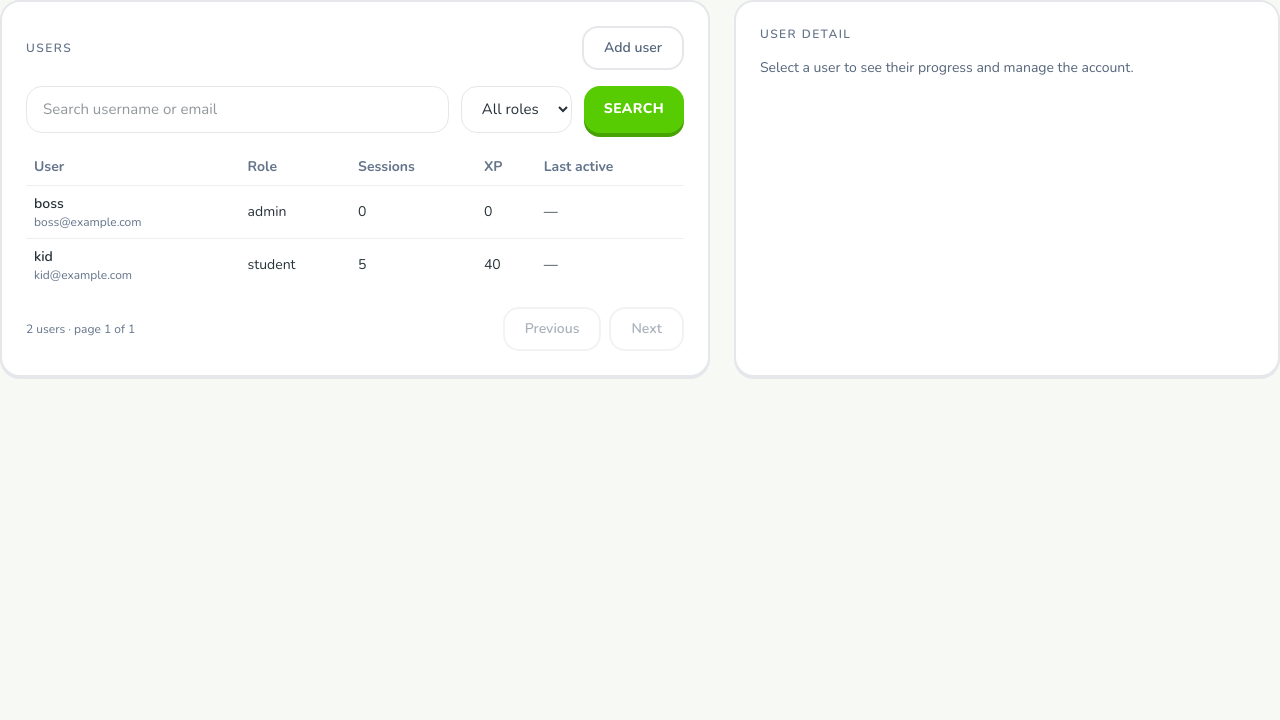
Test: UsersTab › shows the server's refusal inside the dialog instead of closing it
Click the button "kid" at coordinates (43, 257), box [34,247,53,267]
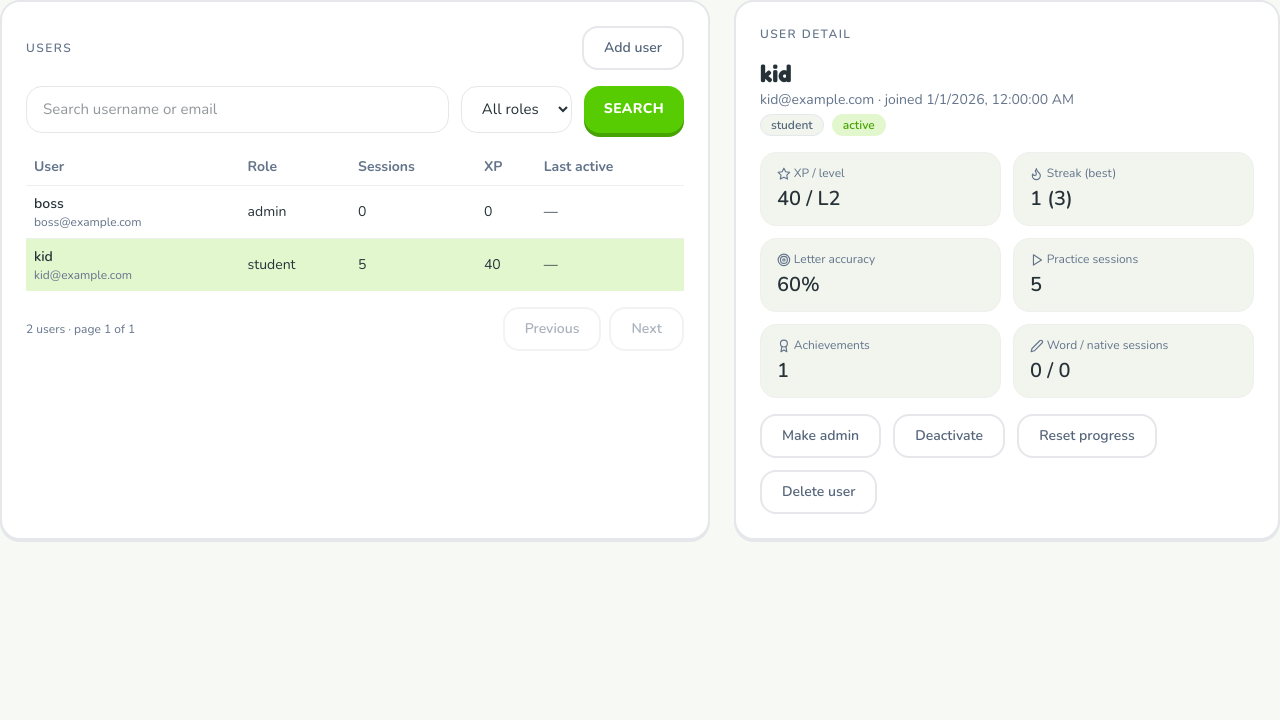
Click the button "Make admin" at coordinates (821, 436), box [760,414,881,458]
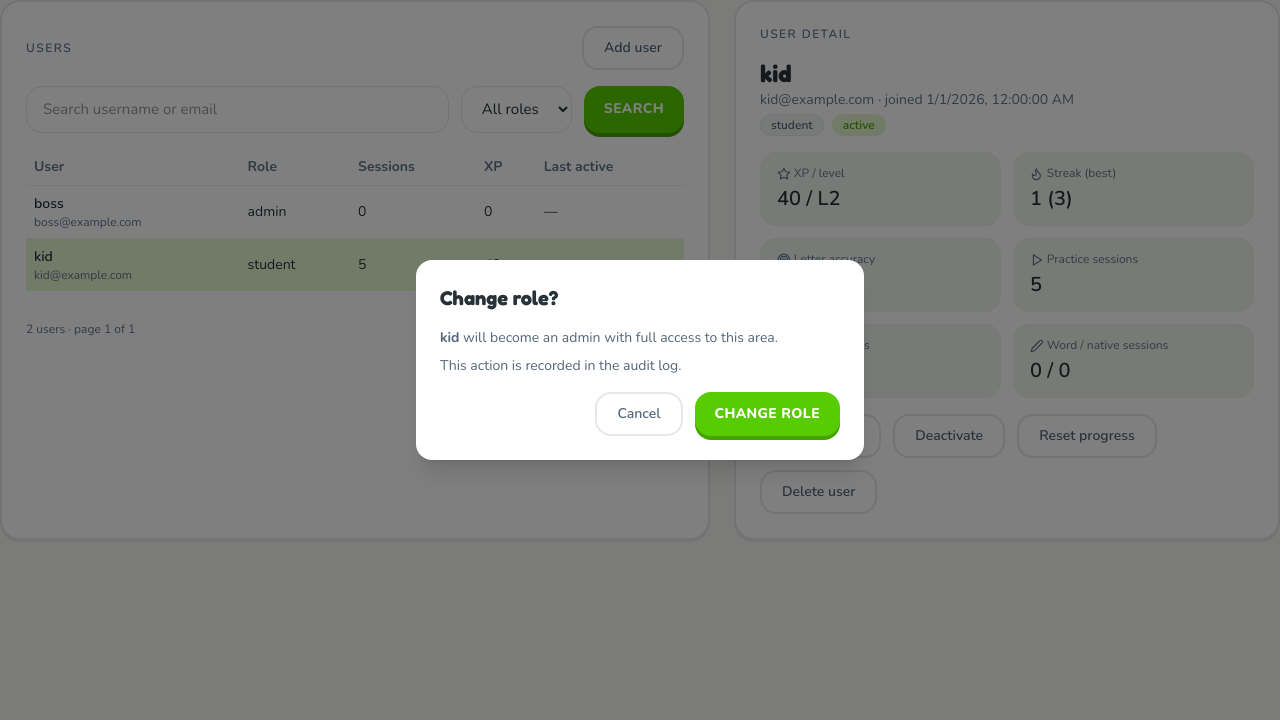
Click the button "Change role" at coordinates (767, 414), box [694,392,840,436]
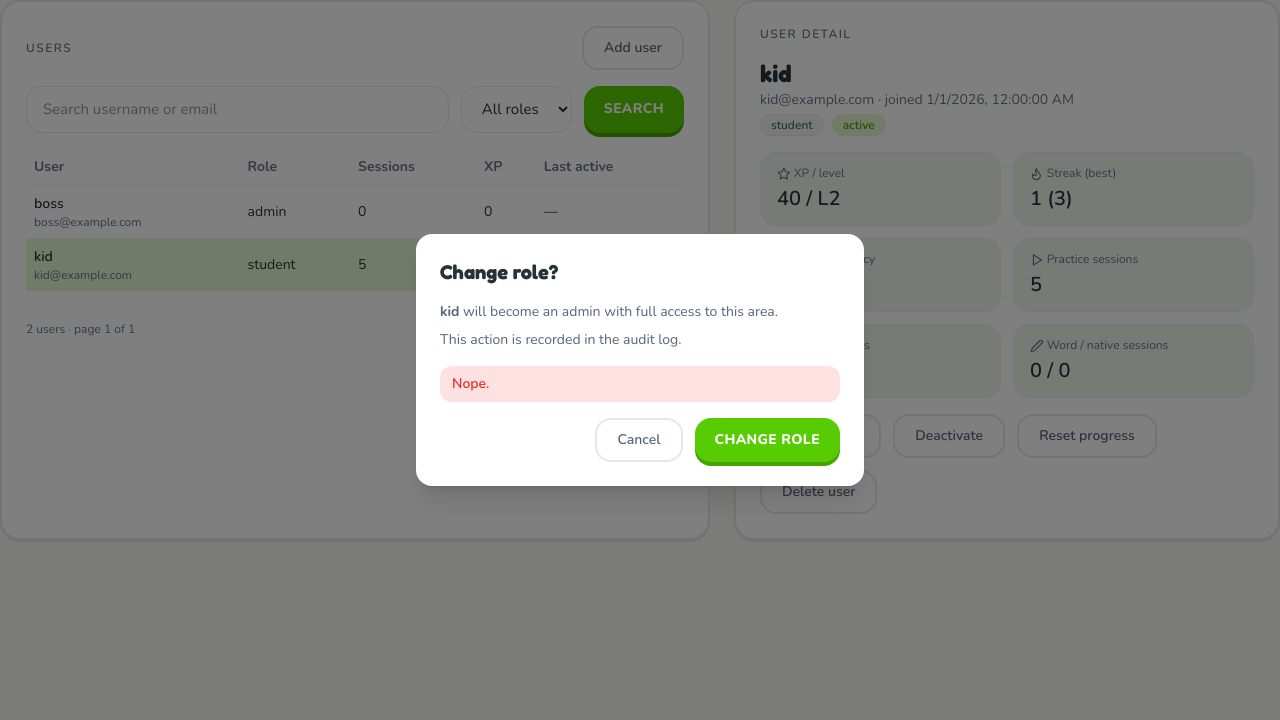
Check: the message reads "Nope.", box [452,374,489,393]
